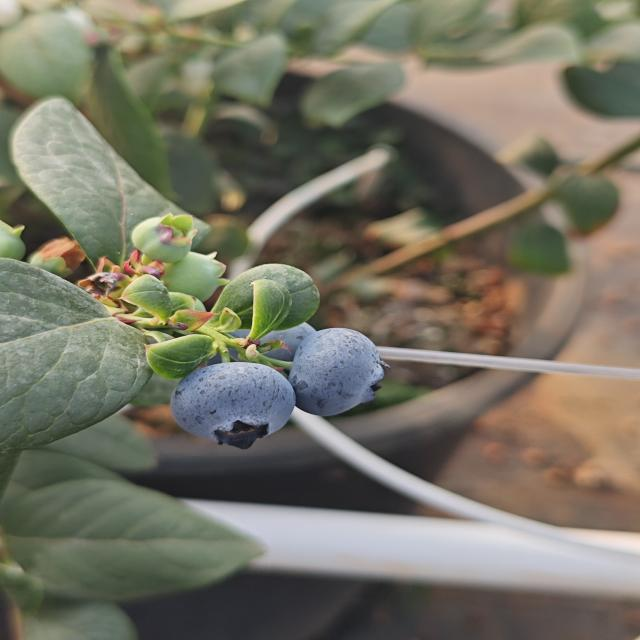ripe: (171, 362, 312, 443), (267, 332, 399, 416), (221, 314, 320, 370)
